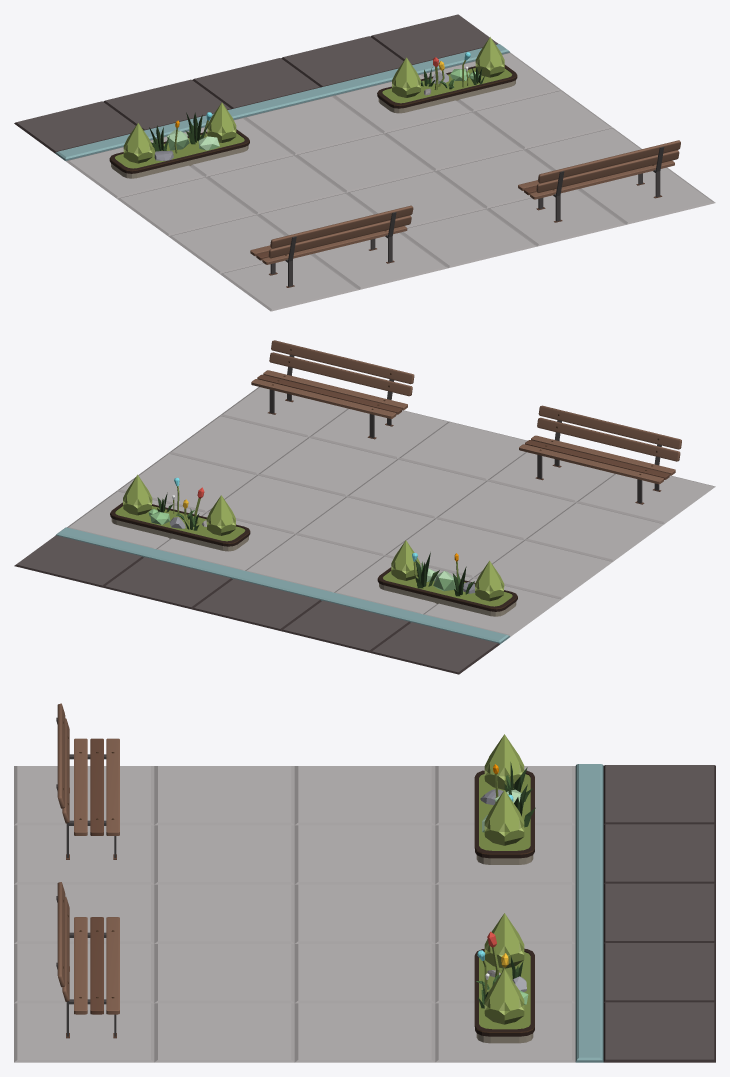
File: OpenRoad_B.glb
The picture shows the model from 3 angles, top to bottom: view 1: azimuth 30°, elevation 25°; view 2: azimuth 150°, elevation 25°; view 3: azimuth 270°, elevation 25°; orthographic projection. The views are drawn at different scales.
Visible parts, largest first — view 1: OpenRoad_B, Bench01.025, Bench01.024, Cube.259, Cube.258, Cone.131, Cone.133, Cone.132, Cone.130; view 2: OpenRoad_B, Bench01.024, Bench01.025, Cube.259, Cube.258, Cone.132, Cone.133, Cone.131, Cone.130; view 3: OpenRoad_B, Bench01.025, Bench01.024, Cube.259, Cube.258, Cone.130, Cone.133, Cone.131, Cone.132.
Part boxes in pixels (left/top/right/bottom): OpenRoad_B: left=14, top=14, right=715, bottom=311; Bench01.025: left=518, top=140, right=680, bottom=222; Bench01.024: left=250, top=205, right=413, bottom=287; Cube.259: left=377, top=64, right=517, bottom=113; Cube.258: left=109, top=129, right=249, bottom=178; Cone.131: left=123, top=123, right=152, bottom=163; Cone.133: left=475, top=37, right=504, bottom=77; Cone.132: left=392, top=57, right=420, bottom=97; Cone.130: left=207, top=102, right=236, bottom=142; OpenRoad_B: left=14, top=387, right=715, bottom=674; Bench01.024: left=519, top=405, right=681, bottom=504; Bench01.025: left=251, top=340, right=414, bottom=439; Cube.259: left=110, top=502, right=250, bottom=551; Cube.258: left=377, top=567, right=517, bottom=616; Cone.132: left=206, top=495, right=235, bottom=535; Cone.133: left=123, top=474, right=152, bottom=515; Cone.131: left=475, top=560, right=504, bottom=601; Cone.130: left=391, top=540, right=420, bottom=580; OpenRoad_B: left=14, top=764, right=715, bottom=1062; Bench01.025: left=56, top=882, right=119, bottom=1038; Bench01.024: left=56, top=703, right=119, bottom=859; Cube.259: left=474, top=948, right=534, bottom=1043; Cube.258: left=474, top=770, right=534, bottom=864; Cone.130: left=484, top=790, right=524, bottom=845; Cone.133: left=484, top=969, right=524, bottom=1024; Cone.131: left=484, top=734, right=524, bottom=789; Cone.132: left=484, top=913, right=524, bottom=968.
Size of what is drawn, in the model's own units: 16 by 1.89 by 16.
Materials: 1 (1 with a texture image).
